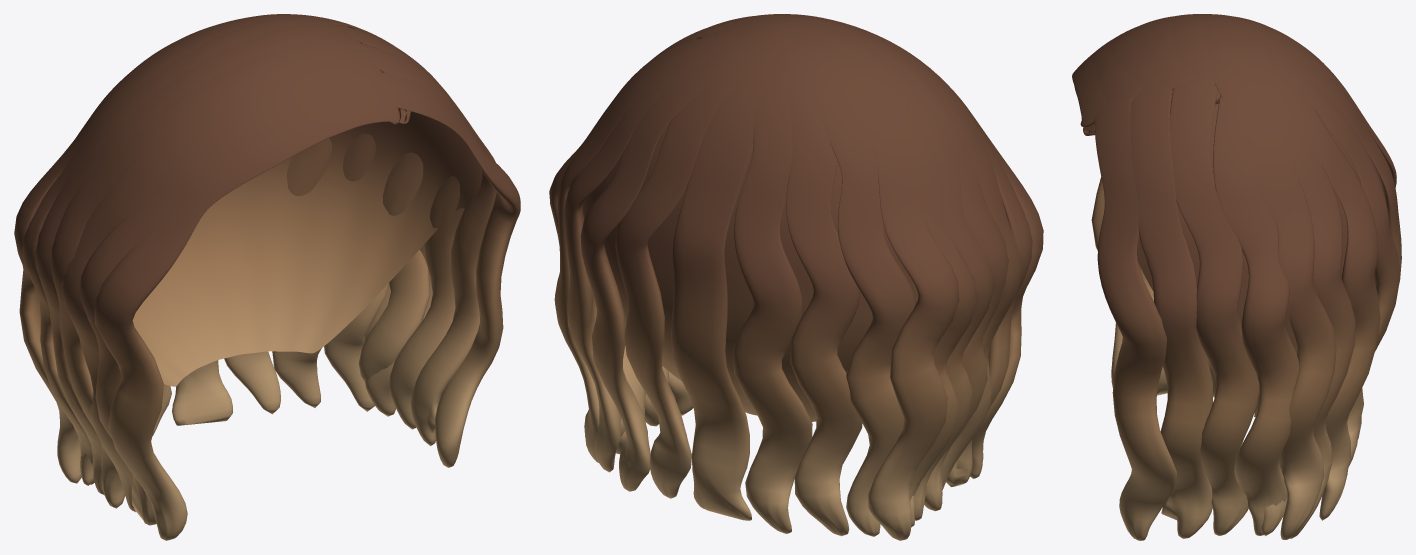
File: Feminine-curls-bucket261-hair-ombre.glb
3 views of the same model, side by side, from view 1: azimuth 30°, elevation 25°; view 2: azimuth 150°, elevation 25°; view 3: azimuth 270°, elevation 25° (orthographic). The views are drawn at different scales.
Parts seen in each view (by area): view 1: 226 hair / Hair / sculpted 0.001, 226 hair / Hair / sculpted 1.001, 226 hair / Hair / sculpted 1.002, 226 hair / Hair / sculpted 2.001; view 2: 226 hair / Hair / sculpted 2.001, 226 hair / Hair / sculpted 0.001, 226 hair / Hair / sculpted 1.002, 226 hair / Hair / sculpted 1.001; view 3: 226 hair / Hair / sculpted 1.002, 226 hair / Hair / sculpted 2.001, 226 hair / Hair / sculpted 0.001, 226 hair / Hair / sculpted 1.001.
Part boxes in pixels (x1,y1,x2,y2): 226 hair / Hair / sculpted 0.001: (14, 14, 464, 540); 226 hair / Hair / sculpted 1.001: (132, 29, 482, 386); 226 hair / Hair / sculpted 1.002: (35, 16, 520, 525); 226 hair / Hair / sculpted 2.001: (22, 14, 496, 512); 226 hair / Hair / sculpted 2.001: (554, 14, 1021, 536); 226 hair / Hair / sculpted 0.001: (580, 14, 1043, 540); 226 hair / Hair / sculpted 1.002: (549, 18, 1032, 536); 226 hair / Hair / sculpted 1.001: (582, 38, 918, 421); 226 hair / Hair / sculpted 1.002: (1091, 14, 1399, 540); 226 hair / Hair / sculpted 2.001: (1109, 14, 1401, 539); 226 hair / Hair / sculpted 0.001: (1072, 16, 1396, 535); 226 hair / Hair / sculpted 1.001: (1137, 81, 1382, 416).
Bounding box in the file's own units: 1.08 × 1.07 × 0.7335.
